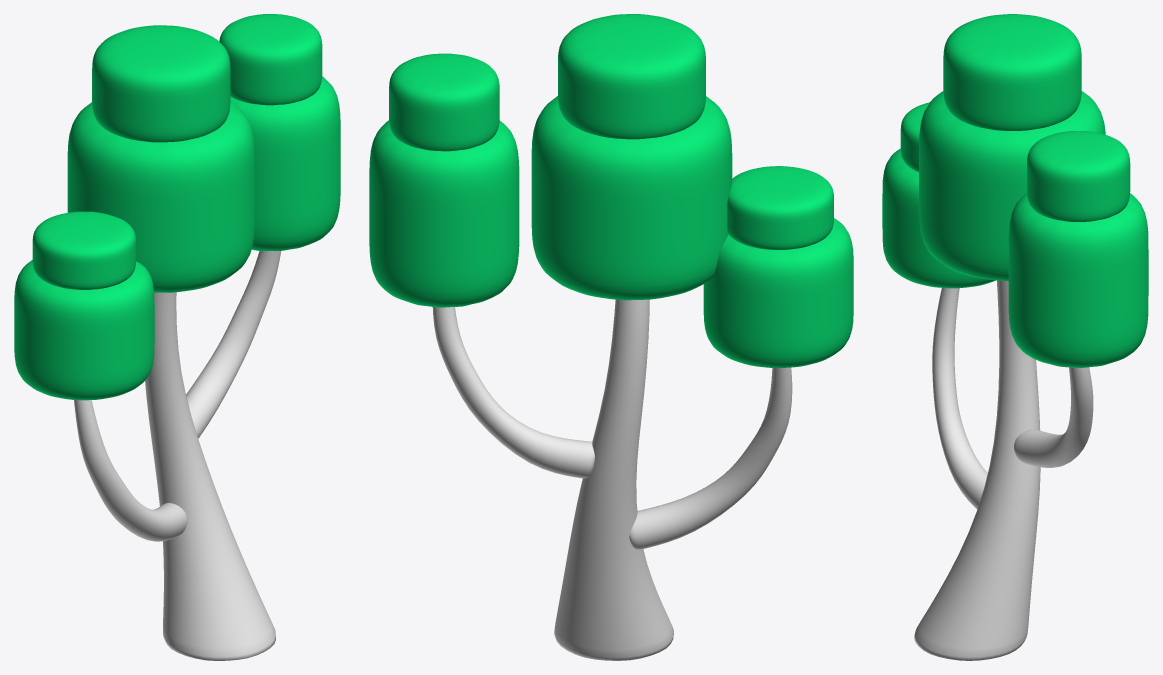
The model's file is RoundTree.fbx.
The picture shows the model from 3 angles, left to right: view 1: azimuth 30°, elevation 25°; view 2: azimuth 150°, elevation 25°; view 3: azimuth 270°, elevation 25°; orthographic projection. The views are drawn at different scales.
Parts seen in each view (by area): view 1: Bush6; view 2: Bush6; view 3: Bush6.
Part boxes in pixels (x1,y1,x2,y2): Bush6: [14, 14, 340, 660]; Bush6: [369, 14, 853, 660]; Bush6: [882, 14, 1148, 660].
Bounding box in the file's own units: 286 × 433 × 178.
